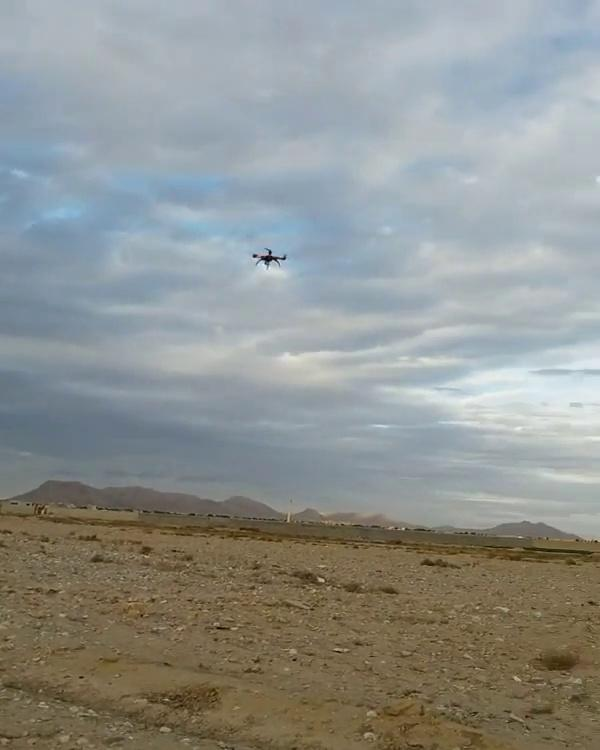drone: (247, 243, 290, 274)
